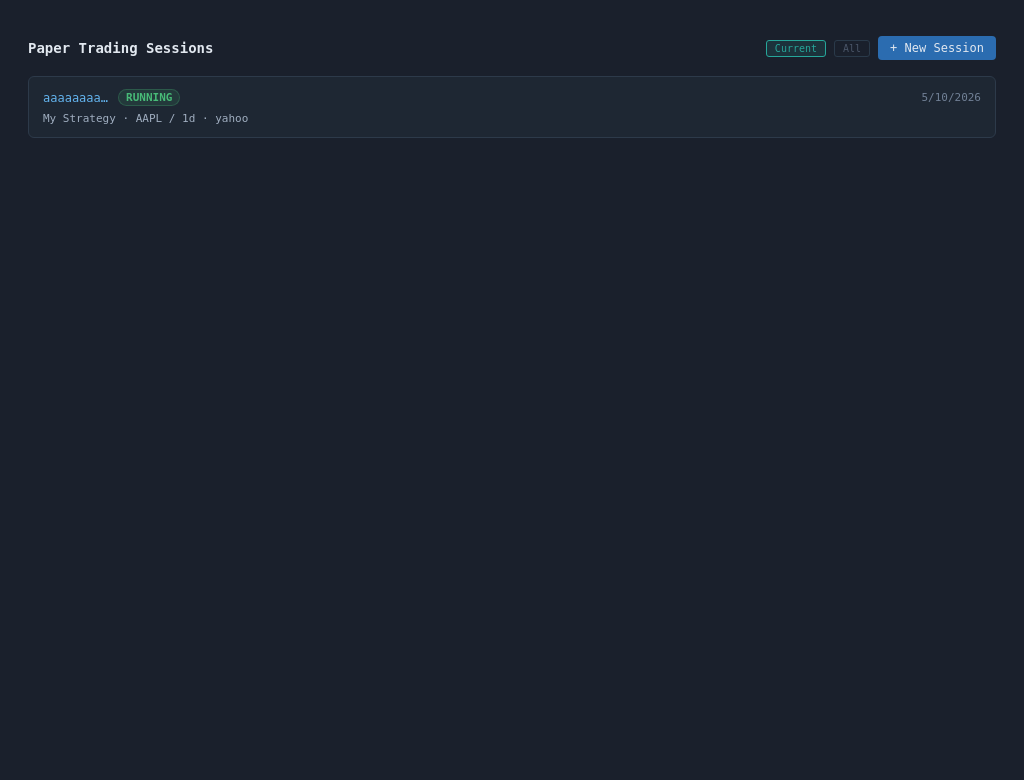
Test case: PaperTradingPanel — account detail (P3 updated) › renders account detail card with backend data when session selected
Expected: the element with test id "pt-session-list" is shown, [28,76,996,138]
Click the button "aaaaaaaa…". click: (76, 98)
box: [43,90,108,104]
(page scrolled)
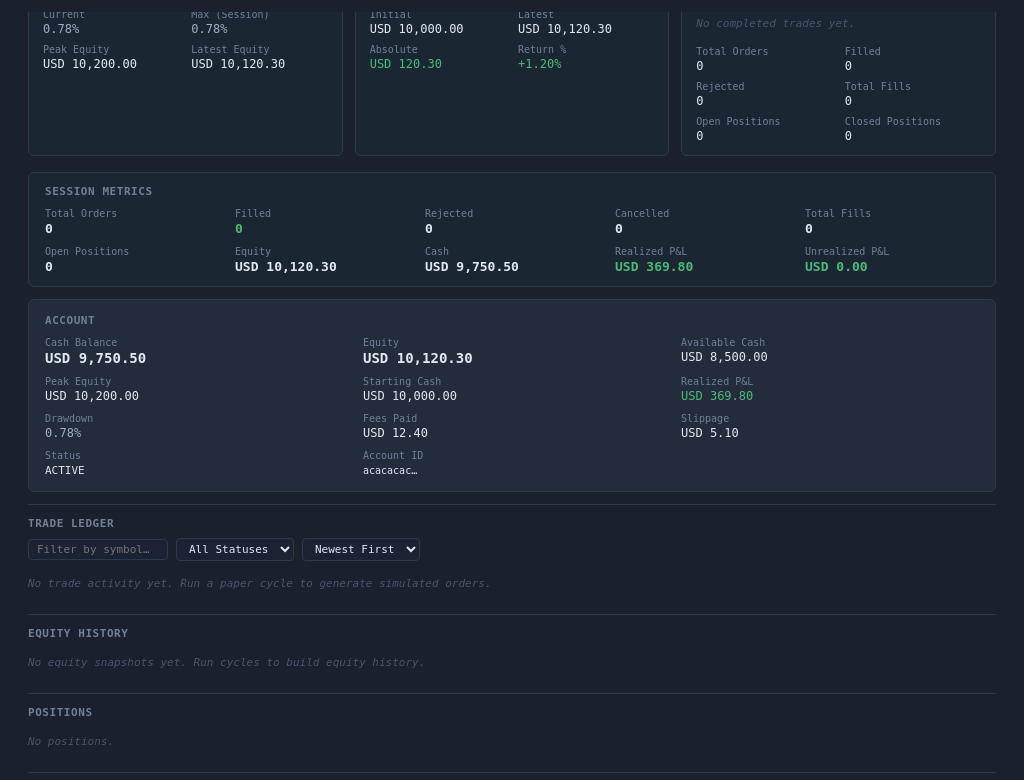
Result: the element with test id "pt-account-detail" is shown at [28,299,996,492]
